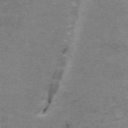finishing roll printing: (42, 0, 82, 114)
